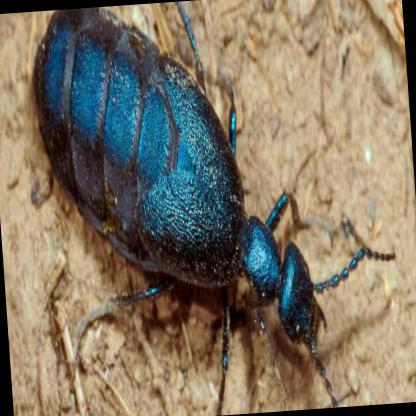blister beetle: (33, 2, 362, 400)
